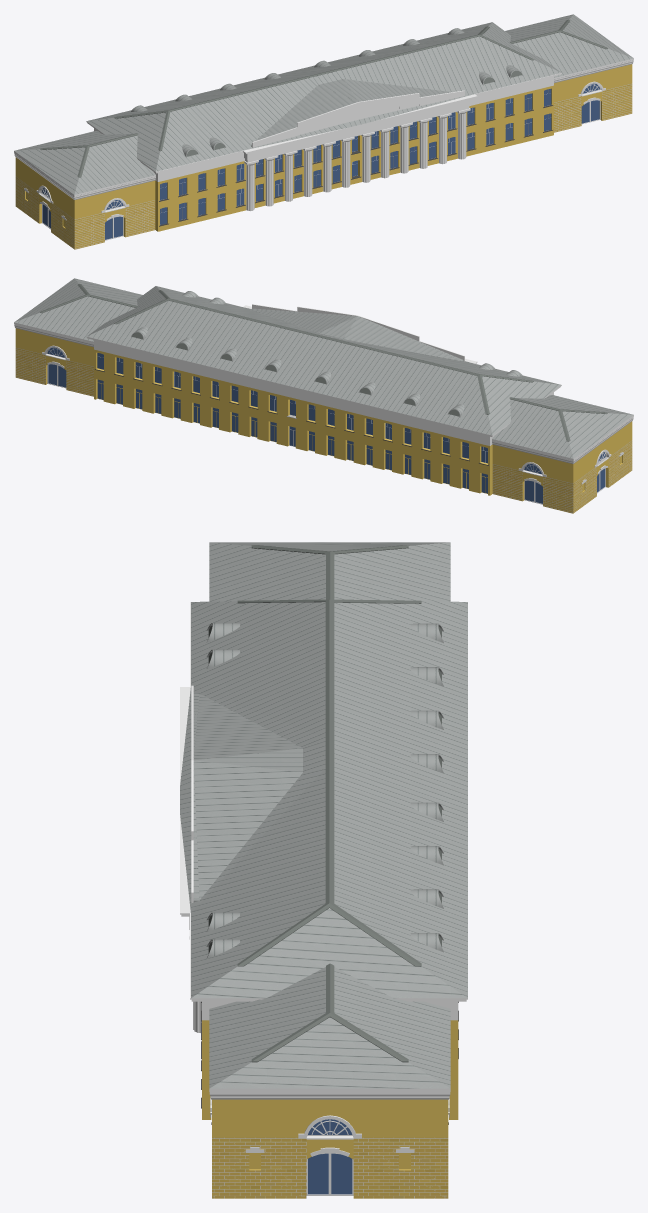
The model's file is EkaterinoslavskayaSukonnayaFabric.glb.
3 views of the same model, one above another, from view 1: azimuth 30°, elevation 25°; view 2: azimuth 150°, elevation 25°; view 3: azimuth 270°, elevation 25° (orthographic). The views are drawn at different scales.
Visible parts, largest first — view 1: root; view 2: root; view 3: root.
Boxes of the visible parts, x1,y1,x2,y2 form: root: (14, 14, 633, 249); root: (14, 278, 633, 513); root: (180, 542, 467, 1198).
Size of the model in its own units: 130 by 19.46 by 29.02.
Materials: 8 (2 with a texture image).
